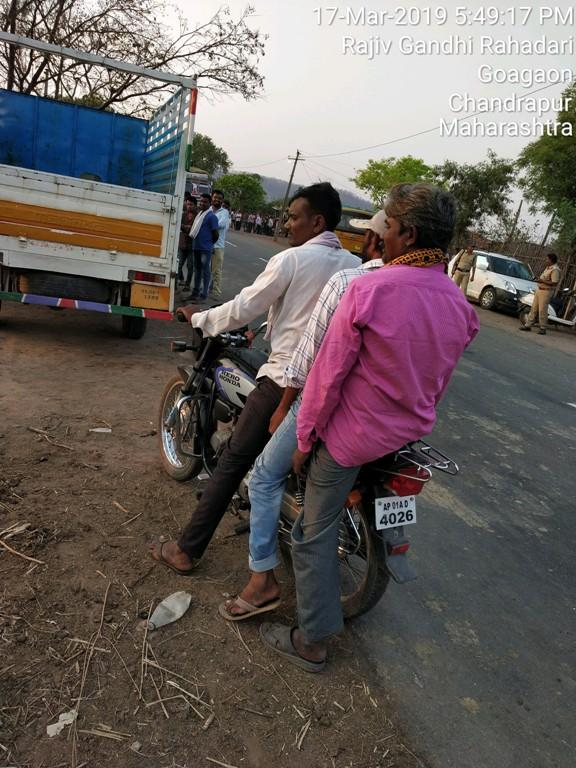plate: (367, 491, 430, 535)
